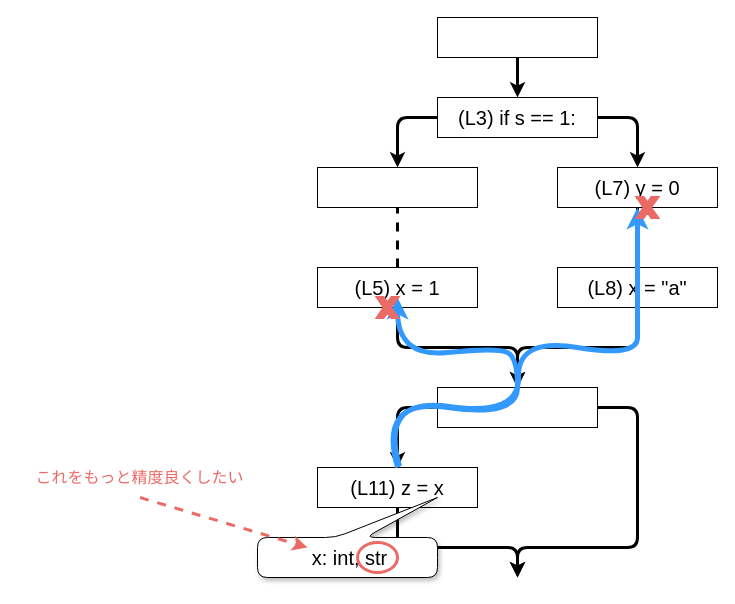
This 735x604 diagram has some shape labels left out. Each missing label, with the centre of its shape:
"(L1) s = int()" goes at pixel 517 37.
"(L10) if y == 1:" goes at pixel 517 407.
"(L4) y = 1" goes at pixel 397 187.
